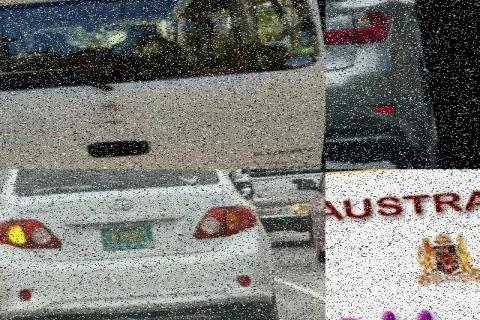LicensePlate: (325, 258, 480, 319), (103, 221, 158, 248), (325, 23, 357, 65)
